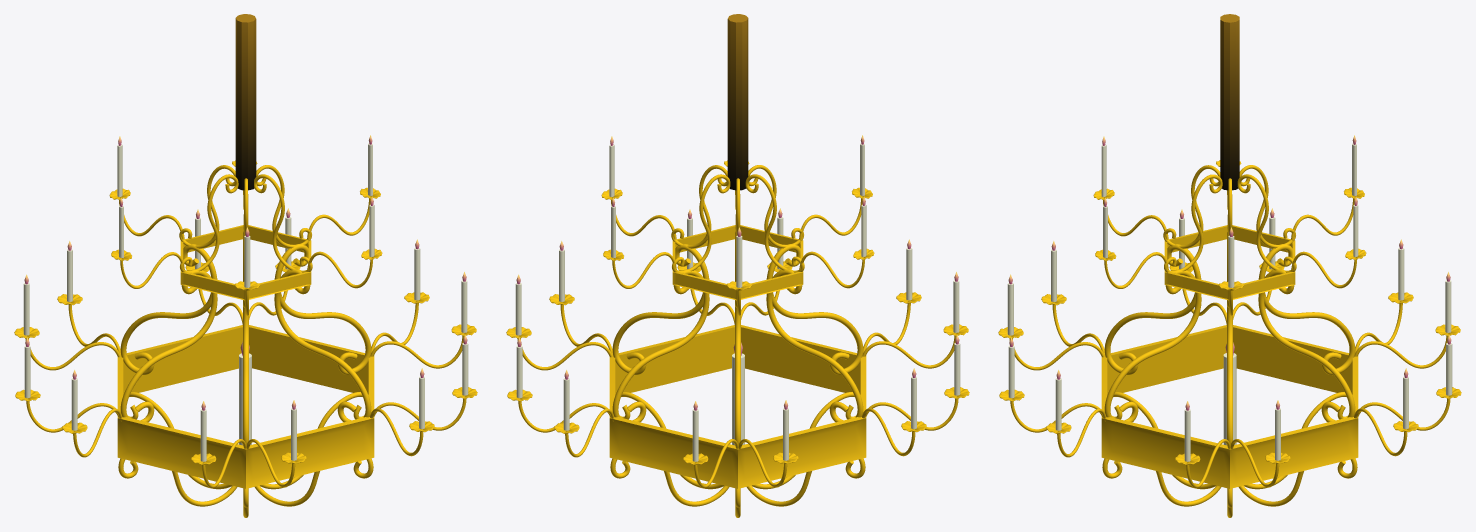
File: Renai_Chandelier.fbx
3 renders of one model, left to right at view 1: azimuth 30°, elevation 25°; view 2: azimuth 150°, elevation 25°; view 3: azimuth 270°, elevation 25°, orthographic.
Parts seen in each view (by area): view 1: centerFoundation, pCylinder9, pCylinder7, CurvedHandle13, CurvedHandle11, CurvedHandle14, CurvedHandle10, CurvedHandle12, CurvedHandle16, CurvedHandle18, CurvedHandle4, CurvedHandle6 (+5 smaller); view 2: centerFoundation, pCylinder9, pCylinder7, CurvedHandle11, CurvedHandle9, CurvedHandle12, CurvedHandle14, CurvedHandle10, CurvedHandle2, CurvedHandle16, CurvedHandle4, CurvedHandle8 (+5 smaller); view 3: centerFoundation, pCylinder9, pCylinder7, CurvedHandle9, CurvedHandle13, CurvedHandle10, CurvedHandle12, CurvedHandle14, CurvedHandle18, CurvedHandle2, CurvedHandle6, CurvedHandle8 (+5 smaller).
Boxes of the visible parts, <box> form: centerFoundation: <box>117,325,374,488</box>; pCylinder9: <box>235,14,256,190</box>; pCylinder7: <box>180,225,311,300</box>; CurvedHandle13: <box>274,269,371,422</box>; CurvedHandle11: <box>120,269,217,422</box>; CurvedHandle14: <box>274,244,371,374</box>; CurvedHandle10: <box>120,244,217,374</box>; CurvedHandle12: <box>243,300,248,445</box>; CurvedHandle16: <box>180,174,238,273</box>; CurvedHandle18: <box>254,174,312,272</box>; CurvedHandle4: <box>118,458,237,506</box>; CurvedHandle6: <box>254,458,373,506</box>; centerFoundation: <box>609,325,866,488</box>; pCylinder9: <box>727,14,748,190</box>; pCylinder7: <box>672,225,803,300</box>; CurvedHandle11: <box>766,269,863,422</box>; CurvedHandle9: <box>612,269,709,422</box>; CurvedHandle12: <box>766,244,863,374</box>; CurvedHandle14: <box>612,244,709,374</box>; CurvedHandle10: <box>735,300,740,445</box>; CurvedHandle2: <box>672,174,730,273</box>; CurvedHandle16: <box>745,174,804,272</box>; CurvedHandle4: <box>746,458,865,506</box>; CurvedHandle8: <box>610,458,729,506</box>; centerFoundation: <box>1101,325,1358,488</box>; pCylinder9: <box>1220,14,1239,190</box>; pCylinder7: <box>1164,225,1295,300</box>; CurvedHandle9: <box>1258,269,1355,422</box>; CurvedHandle13: <box>1104,269,1201,422</box>; CurvedHandle10: <box>1258,244,1355,375</box>; CurvedHandle12: <box>1104,244,1201,375</box>; CurvedHandle14: <box>1227,300,1232,444</box>; CurvedHandle18: <box>1164,174,1222,273</box>; CurvedHandle2: <box>1237,174,1296,272</box>; CurvedHandle6: <box>1102,458,1221,506</box>; CurvedHandle8: <box>1238,458,1357,506</box>.
Bounding box in the file's own units: 14.86 × 16.33 × 14.33.
